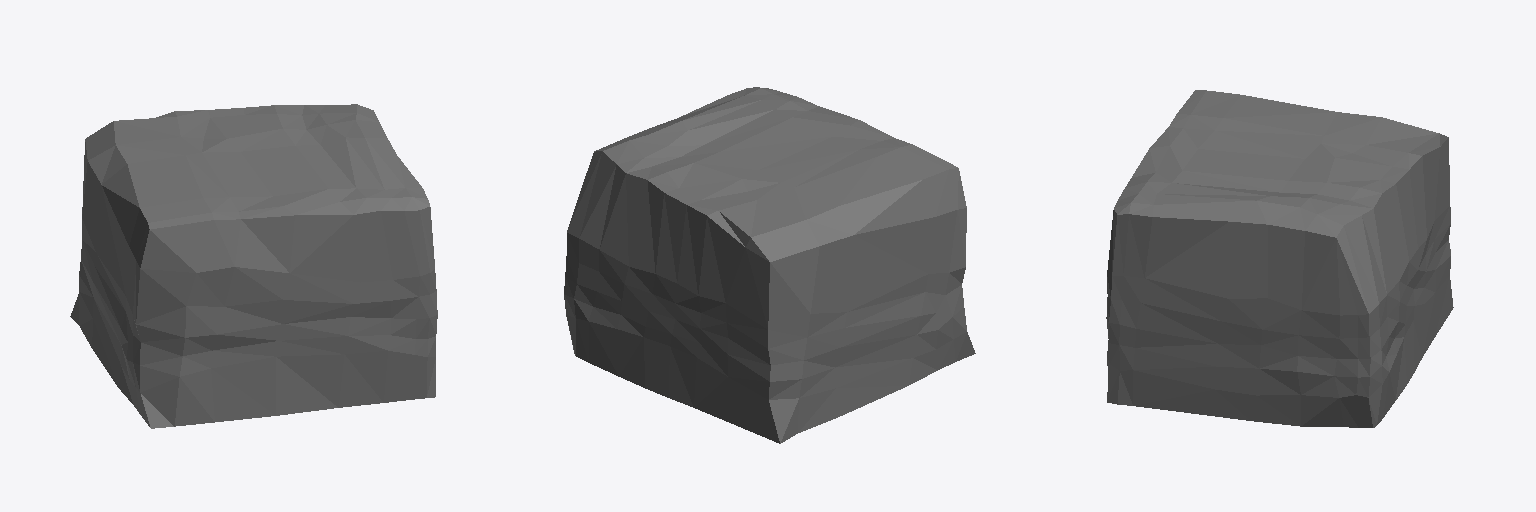
The model's file is Env9UV_low.OBJ.
3 views of the same model, side by side, from view 1: azimuth 30°, elevation 25°; view 2: azimuth 150°, elevation 25°; view 3: azimuth 270°, elevation 25° (orthographic).
Parts seen in each view (by area): view 1: Env9UV_low3:Group11537; view 2: Env9UV_low3:Group11537; view 3: Env9UV_low3:Group11537.
Boxes of the visible parts, x1=… form: Env9UV_low3:Group11537: x1=70, y1=104, x2=437, y2=428; Env9UV_low3:Group11537: x1=564, y1=87, x2=975, y2=443; Env9UV_low3:Group11537: x1=1106, y1=90, x2=1453, y2=427.
Bounding box in the file's own units: 32.47 × 20.09 × 30.7.